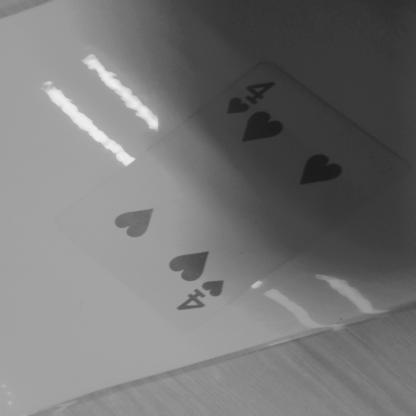4H: (152, 265, 236, 334), (211, 68, 290, 118)
